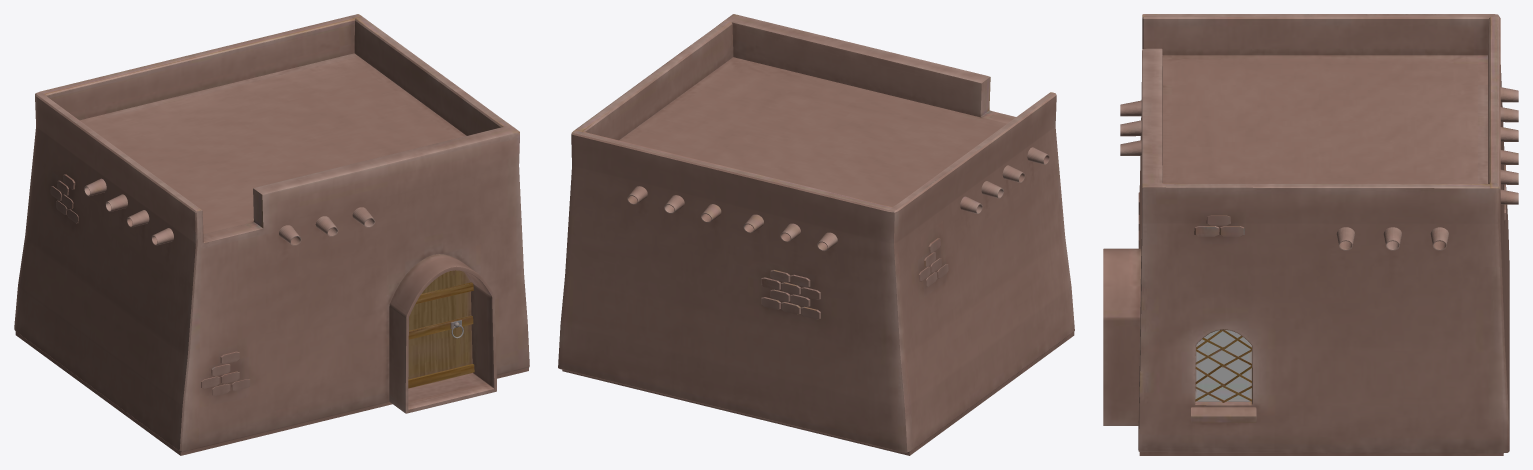
3 views of the same model, side by side, from view 1: azimuth 30°, elevation 25°; view 2: azimuth 150°, elevation 25°; view 3: azimuth 270°, elevation 25° (orthographic). The views are drawn at different scales.
Parts seen in each view (by area): view 1: DecorativeHouse1, Tablas, Cube.005, Cube.003; view 2: DecorativeHouse1, Cube.020, Cube.003; view 3: DecorativeHouse1, rEJILLA.002, Cube.001.
Boxes of the visible parts, box(x1,y1,x2,y2) form: DecorativeHouse1: box(14, 14, 529, 455); Tablas: box(408, 282, 474, 388); Cube.005: box(201, 351, 250, 395); Cube.003: box(50, 174, 78, 223); DecorativeHouse1: box(558, 14, 1074, 455); Cube.020: box(761, 270, 820, 319); Cube.003: box(919, 238, 948, 286); DecorativeHouse1: box(1103, 14, 1518, 455); rEJILLA.002: box(1195, 329, 1251, 402); Cube.001: box(1194, 215, 1244, 236).
Bounding box in the file's own units: 7.08 × 4.54 × 6.45.
Materials: 2 (2 with a texture image).
